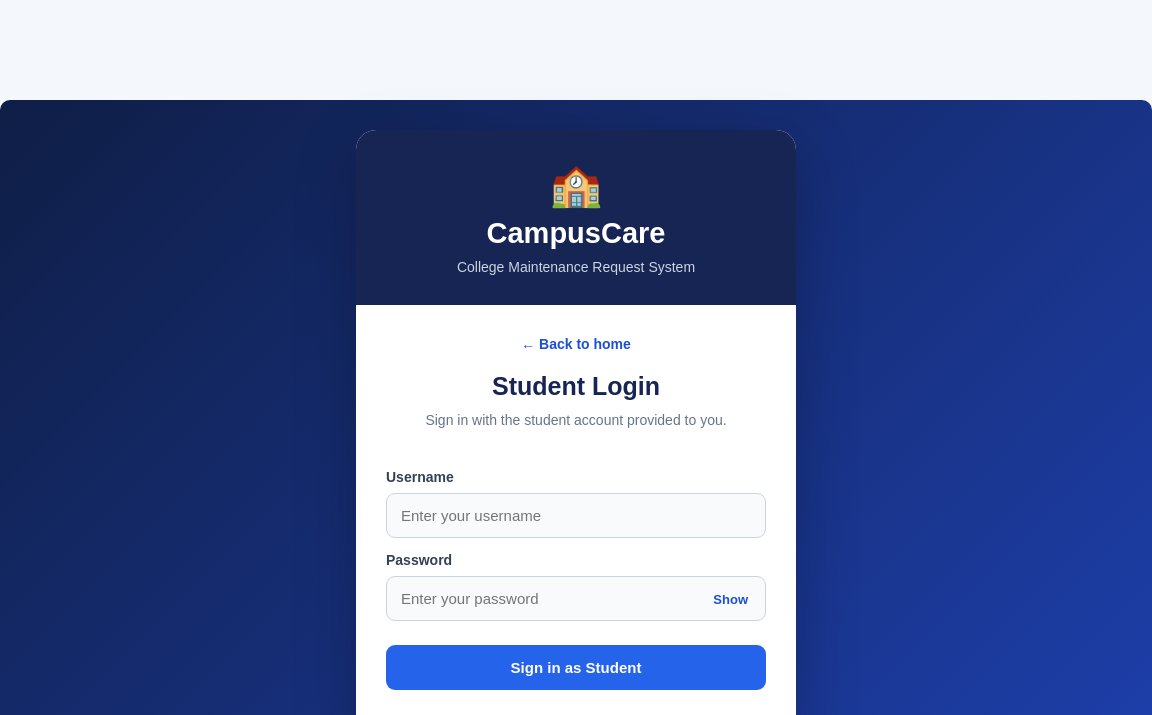
Test: login sends the username and password fields expected by the backend
Type " student1 " into the field labelled "Username" at (576,516), box [386, 493, 766, 538]
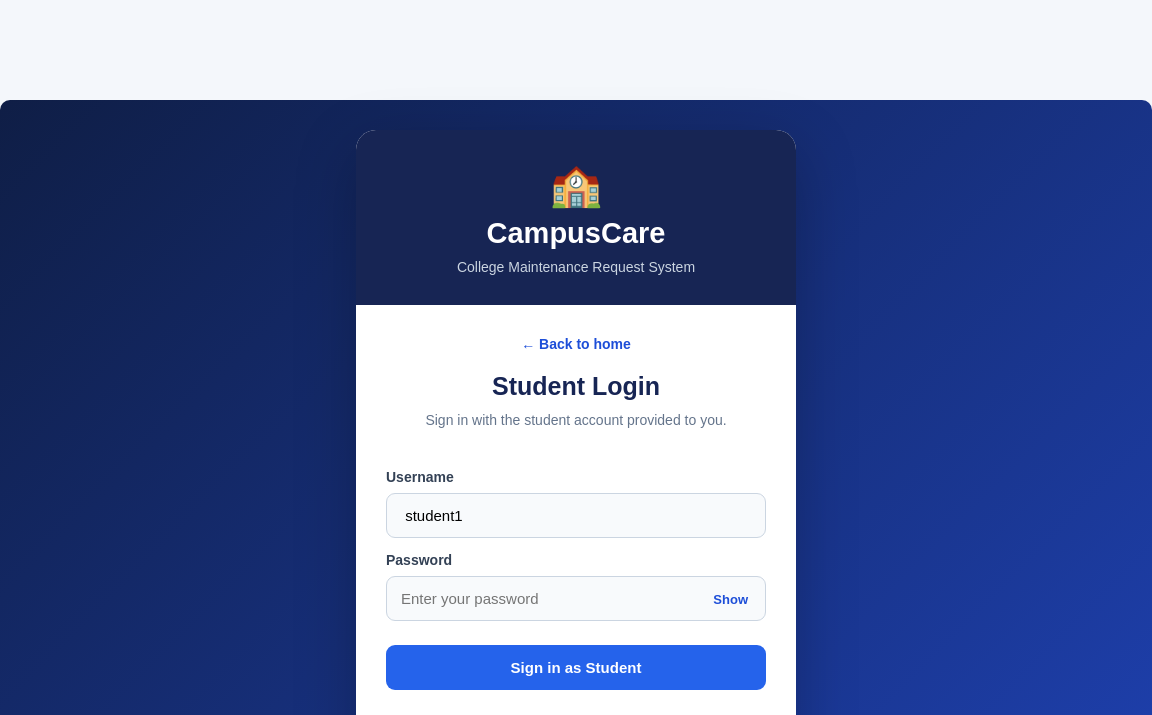
Type "student-password" into the password field labelled "Password" at (576,599), box [386, 576, 766, 621]
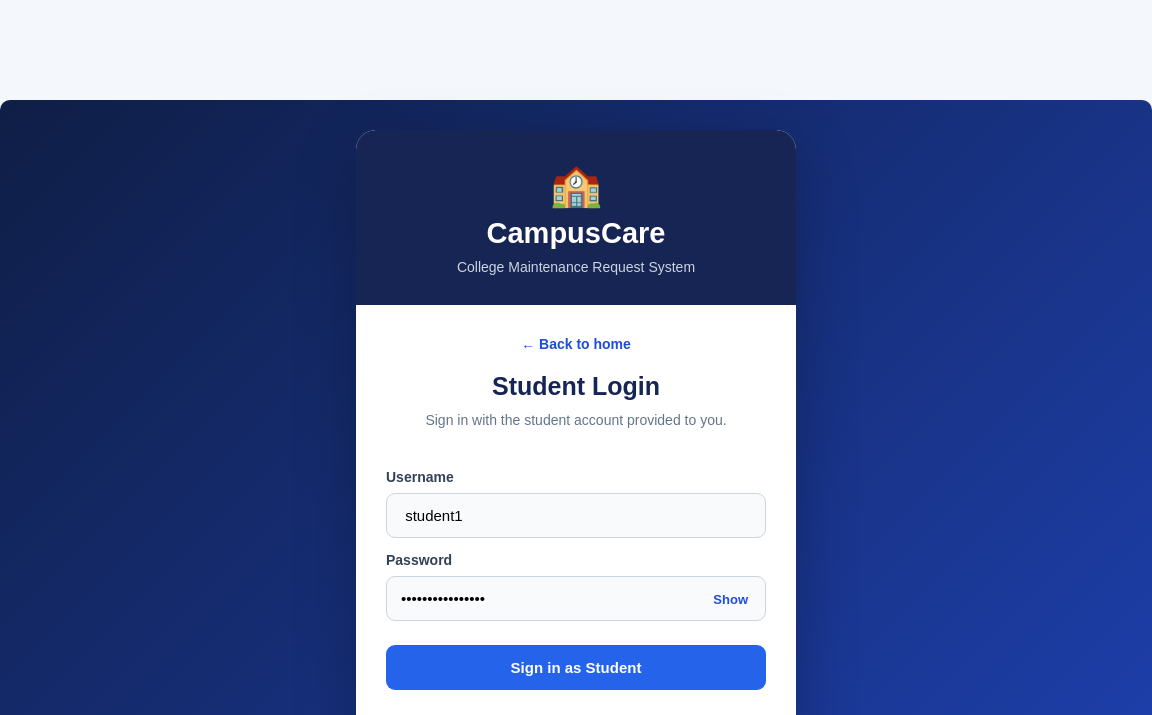
Click the button "Sign in as Student" at (576,668), box [386, 645, 766, 690]
(page scrolled)
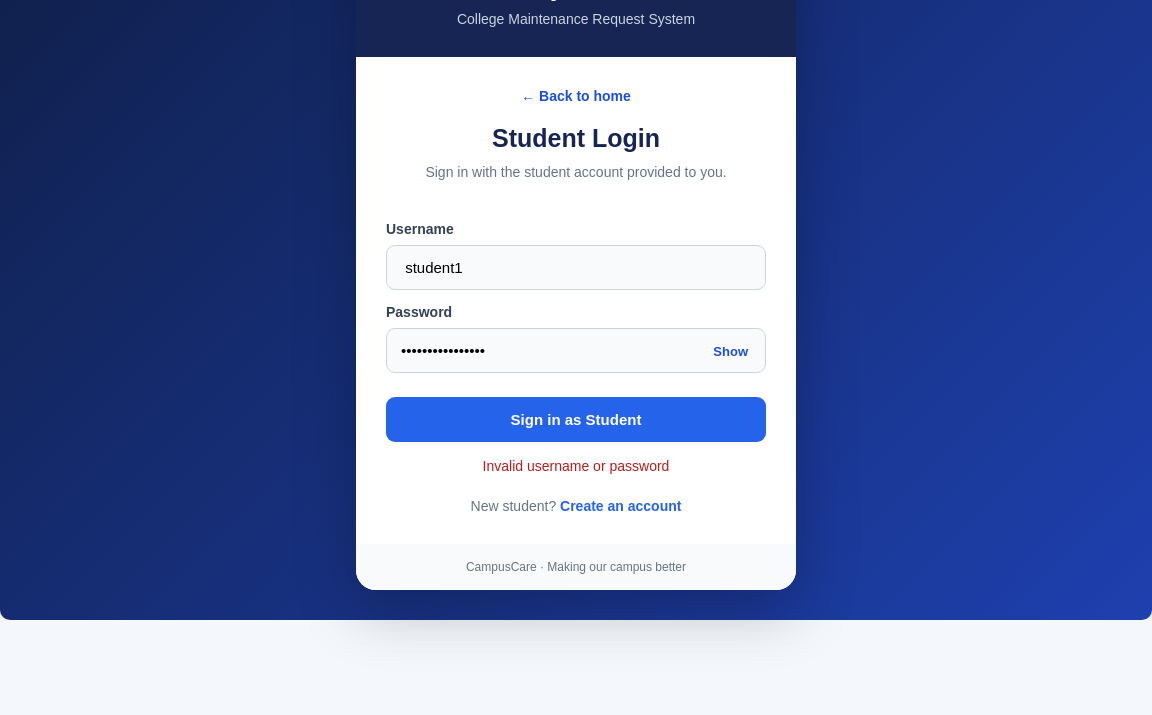
Check: the message reads "Invalid username or password", box [483, 458, 669, 474]
